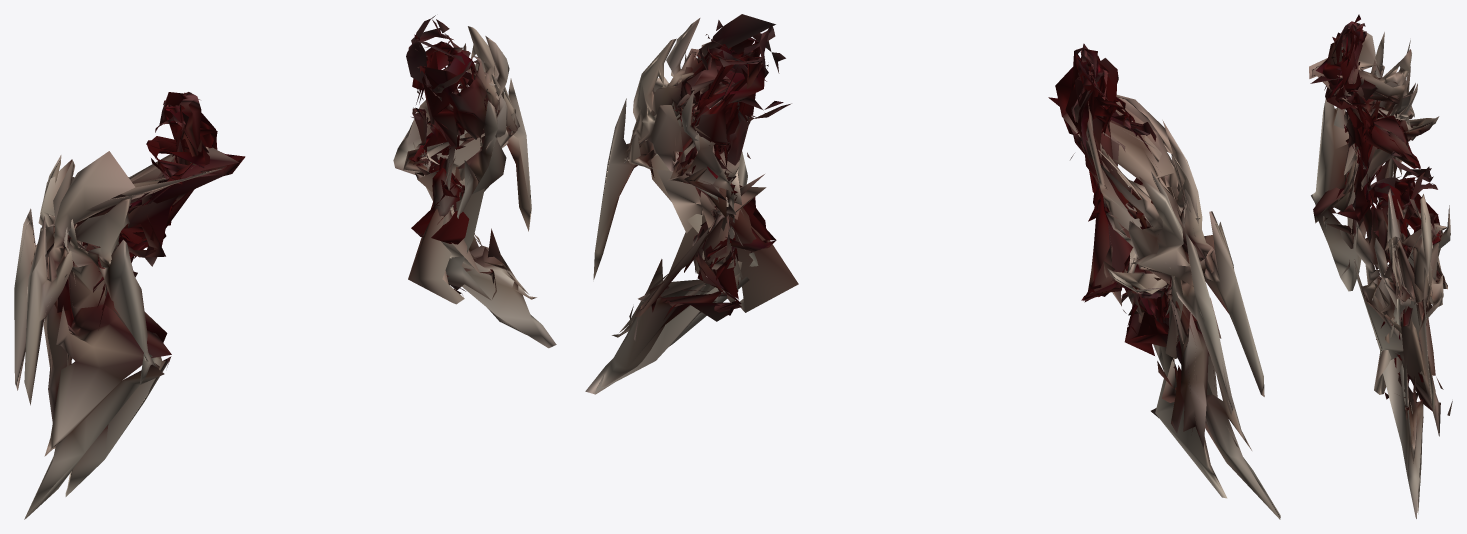
The model's file is pred_bone_spur.glb.
3 views of the same model, side by side, from view 1: azimuth 30°, elevation 25°; view 2: azimuth 150°, elevation 25°; view 3: azimuth 270°, elevation 25° (orthographic). The views are drawn at different scales.
Parts seen in each view (by area): view 1: ds.glb-fitted; view 2: ds.glb-fitted; view 3: ds.glb-fitted.
Boxes of the visible parts, <box> form: ds.glb-fitted: <box>14,15,556,519</box>; ds.glb-fitted: <box>585,14,1280,519</box>; ds.glb-fitted: <box>1309,14,1452,518</box>.
Size of the model in its own units: 1.21 by 0.7738 by 0.3039.
